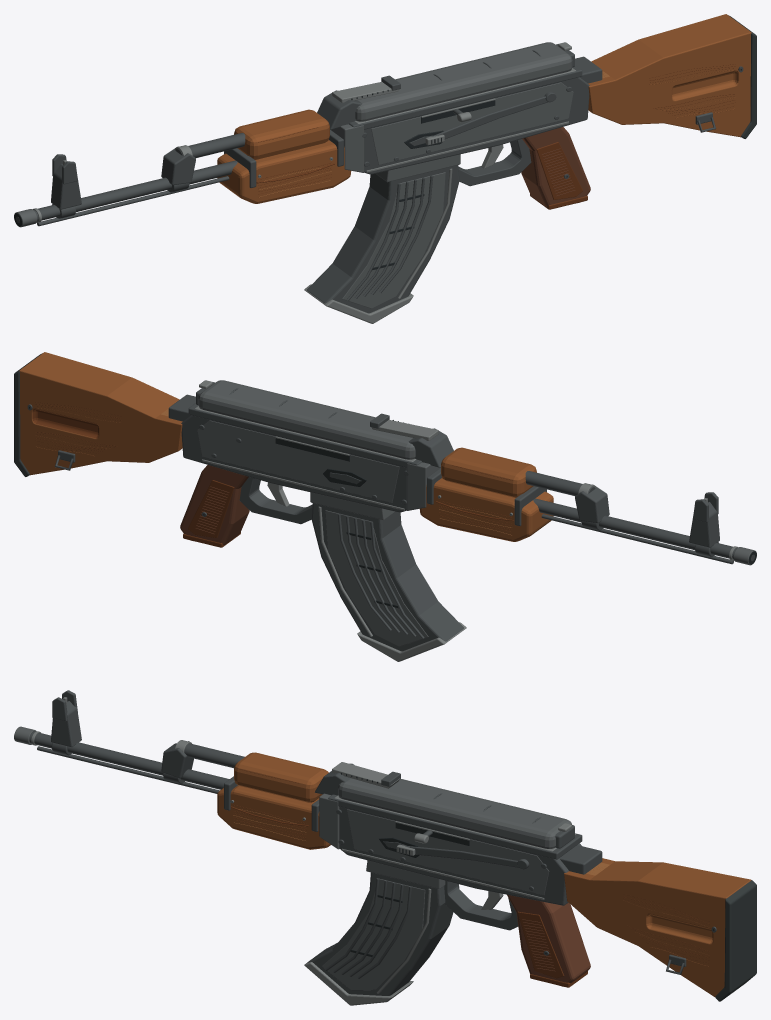
Rendered from akm.glb.
3 renders of one model, top to bottom at view 1: azimuth 30°, elevation 25°; view 2: azimuth 150°, elevation 25°; view 3: azimuth 330°, elevation 25°, orthographic.
Parts seen in each view (by area): view 1: Traditional wooden stock, Top cover rounded pressing, Solid curved display magazine, Receiver stamped shallow side facet, Magazine inset stamped face, Lower wooden guard, Upper wooden guard, Stamped receiver closed body, Bakelite rear grip, Solid exterior barrel ornament, Receiver upper shoulder, Grip raised side panel (+13 smaller); view 2: Traditional wooden stock, Top cover rounded pressing, Receiver stamped shallow side facet.001, Solid curved display magazine, Magazine inset stamped face.001, Lower wooden guard, Upper wooden guard, Stamped receiver closed body, Bakelite rear grip, Solid exterior barrel ornament, Receiver upper shoulder, Grip raised side panel.001 (+12 smaller); view 3: Traditional wooden stock, Top cover rounded pressing, Receiver stamped shallow side facet, Magazine inset stamped face, Lower wooden guard, Solid curved display magazine, Bakelite rear grip, Butt plate, Stamped receiver closed body, Upper wooden guard, Solid exterior barrel ornament, Receiver upper shoulder (+13 smaller).
Part boxes in pixels (x1,y1,x2,y2): Traditional wooden stock: (588,14,751,137); Top cover rounded pressing: (355,42,572,121); Solid curved display magazine: (307,165,459,313); Receiver stamped shallow side facet: (371,82,573,164); Magazine inset stamped face: (342,172,445,308); Lower wooden guard: (217,140,351,203); Upper wooden guard: (234,109,329,159); Stamped receiver closed body: (364,77,589,174); Bakelite rear grip: (521,127,590,206); Solid exterior barrel ornament: (33,160,237,221); Receiver upper shoulder: (349,65,582,129); Grip raised side panel: (536,142,582,199); Traditional wooden stock: (19,352,182,475); Top cover rounded pressing: (198,380,415,459); Receiver stamped shallow side facet.001: (197,420,399,502); Solid curved display magazine: (311,503,463,651); Magazine inset stamped face.001: (325,510,428,646); Lower wooden guard: (419,478,553,541); Upper wooden guard: (441,447,536,497); Stamped receiver closed body: (181,415,406,512); Bakelite rear grip: (180,465,249,544); Solid exterior barrel ornament: (533,498,737,559); Receiver upper shoulder: (188,403,421,467); Grip raised side panel.001: (188,480,234,537); Traditional wooden stock: (564,858,751,996); Top cover rounded pressing: (338,778,571,848); Receiver stamped shallow side facet: (347,809,549,895); Magazine inset stamped face: (322,878,425,990); Lower wooden guard: (217,785,330,849); Solid curved display magazine: (307,872,459,995); Bakelite rear grip: (507,894,590,986); Butt plate: (715,880,756,1001); Stamped receiver closed body: (339,806,581,905); Upper wooden guard: (234,752,328,802); Solid exterior barrel ornament: (29,731,229,789); Receiver upper shoulder: (328,794,582,859).
Size of the model in its own units: 294 by 89.2 by 29.46.
